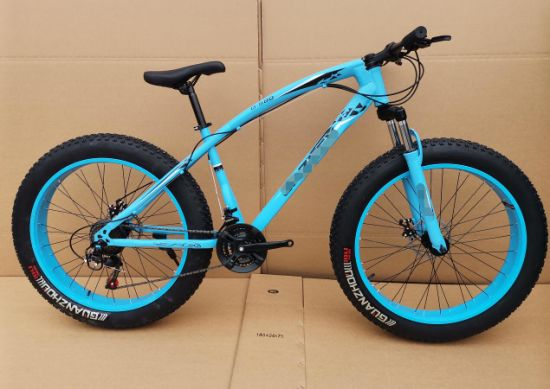bicycle: (10, 24, 550, 344)
